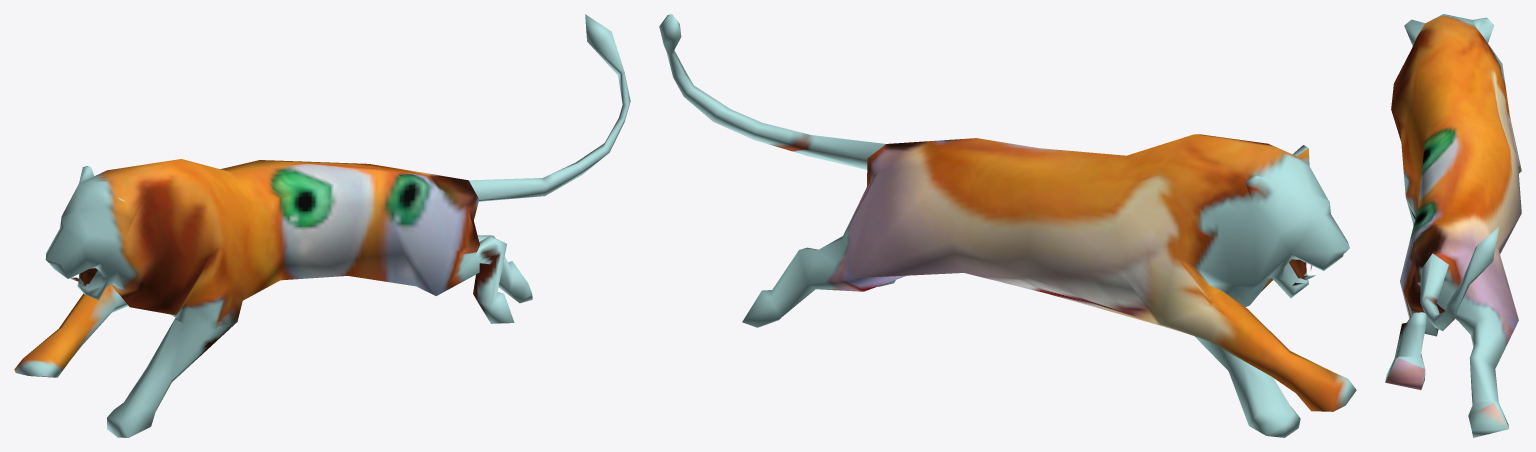
The model's file is static.ico.obj.
3 views of the same model, side by side, from view 1: azimuth 30°, elevation 25°; view 2: azimuth 150°, elevation 25°; view 3: azimuth 270°, elevation 25° (orthographic). The views are drawn at different scales.
Bounding box in the file's own units: 5 × 2.14 × 1.06.
